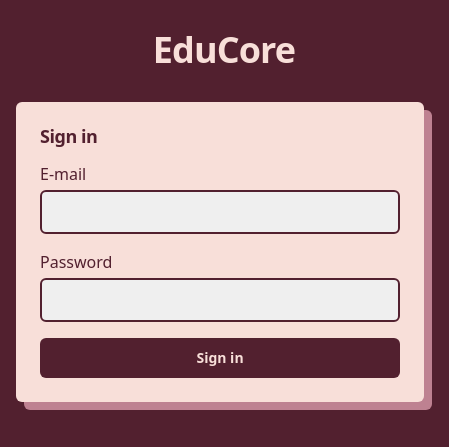
sign-in form › shows the error when the credentials are rejected
Type "a@b.sk" into the field labelled "E-mail" at coordinates (220, 212), box [40, 190, 400, 234]
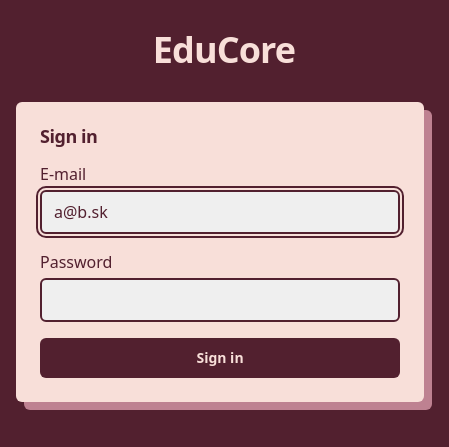
Type "x" into the password field labelled "Password" at coordinates (220, 300), box [40, 278, 400, 322]
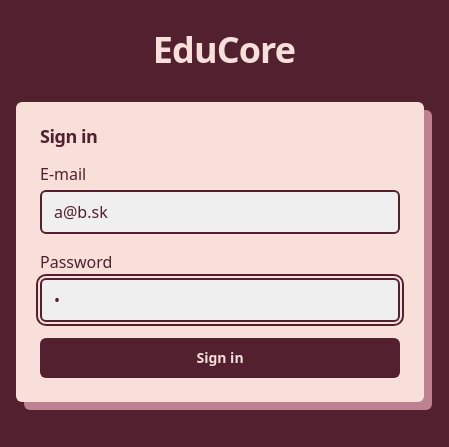
Click the button "Sign in" at coordinates (220, 358), box [40, 338, 400, 378]
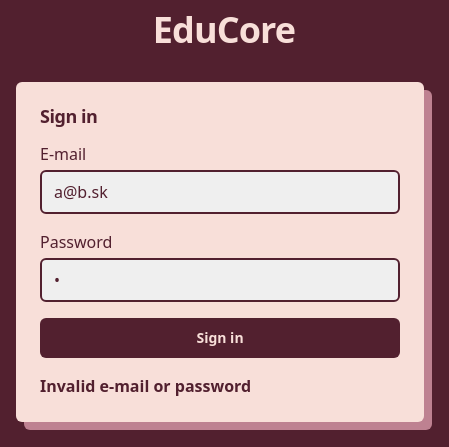
Expected: the button "Sign in" is enabled, [40, 318, 400, 358]
Now the message reads "Invalid e-mail or password", box [40, 375, 251, 397]
